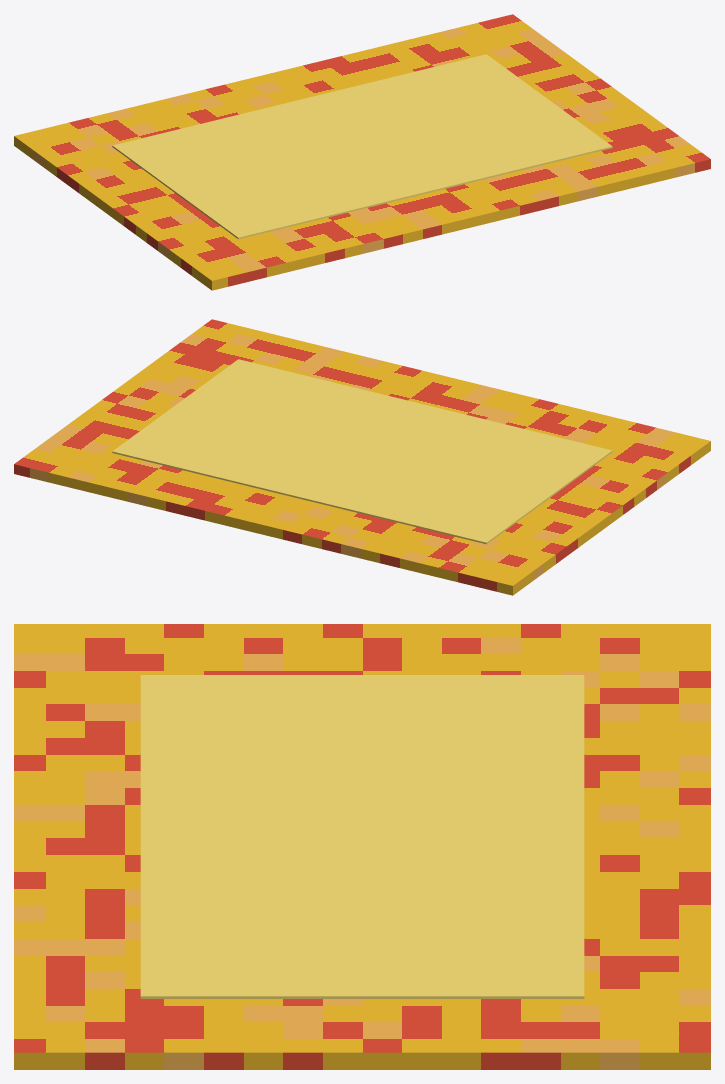
The model's file is movel_r04_01.glb.
The picture shows the model from 3 angles, top to bottom: view 1: azimuth 30°, elevation 25°; view 2: azimuth 150°, elevation 25°; view 3: azimuth 270°, elevation 25°; orthographic projection. The views are drawn at different scales.
Parts seen in each view (by area): view 1: movel_r04_01; view 2: movel_r04_01; view 3: movel_r04_01.
Part boxes in pixels (x1,y1,x2,y2): movel_r04_01: (14, 14, 710, 290); movel_r04_01: (14, 319, 710, 595); movel_r04_01: (14, 624, 710, 1069).
Bounding box in the file's own units: 1.6 × 0.035 × 1.1.
2 materials, 1 textured.
